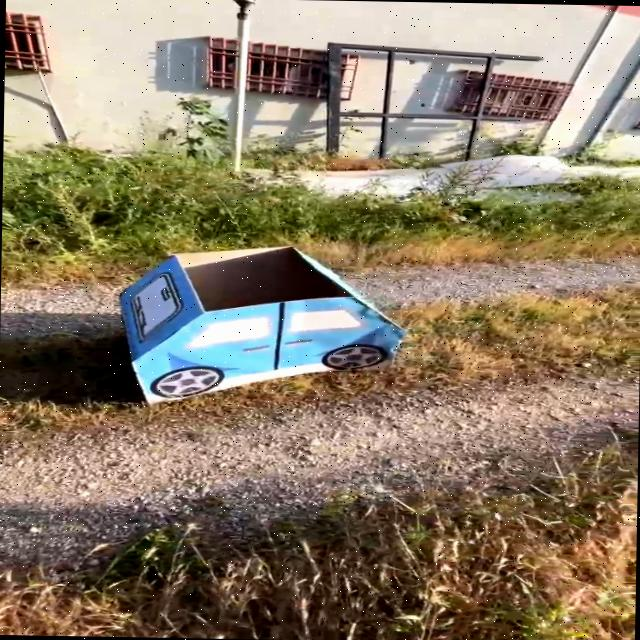blue_car: (43, 229, 439, 425)
